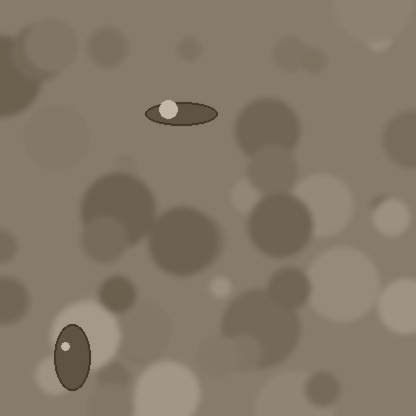gota: (54, 326, 90, 396), (145, 103, 217, 127)
